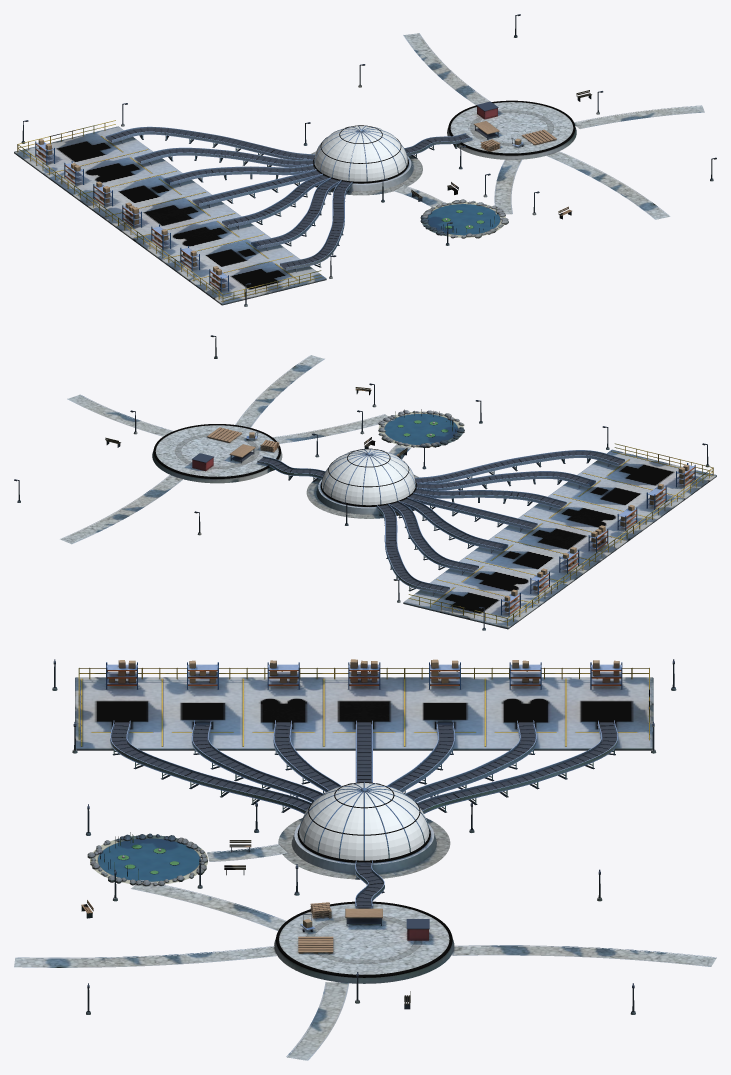
The model's file is district.glb.
The picture shows the model from 3 angles, top to bottom: view 1: azimuth 30°, elevation 25°; view 2: azimuth 150°, elevation 25°; view 3: azimuth 270°, elevation 25°; orthographic projection. The views are drawn at different scales.
Parts seen in each view (by area): view 1: district, dome_glass; view 2: district, dome_glass; view 3: district, dome_glass.
Part boxes in pixels (x1,y1,x2,y2): district: (14,14,716,306); dome_glass: (314,126,407,181); district: (14,335,716,630); dome_glass: (321,449,415,505); district: (14,659,716,1060); dome_glass: (299,783,429,860).
Bounding box in the file's own units: 67.31 × 4.74 × 52.25.
2 materials, 1 textured.
